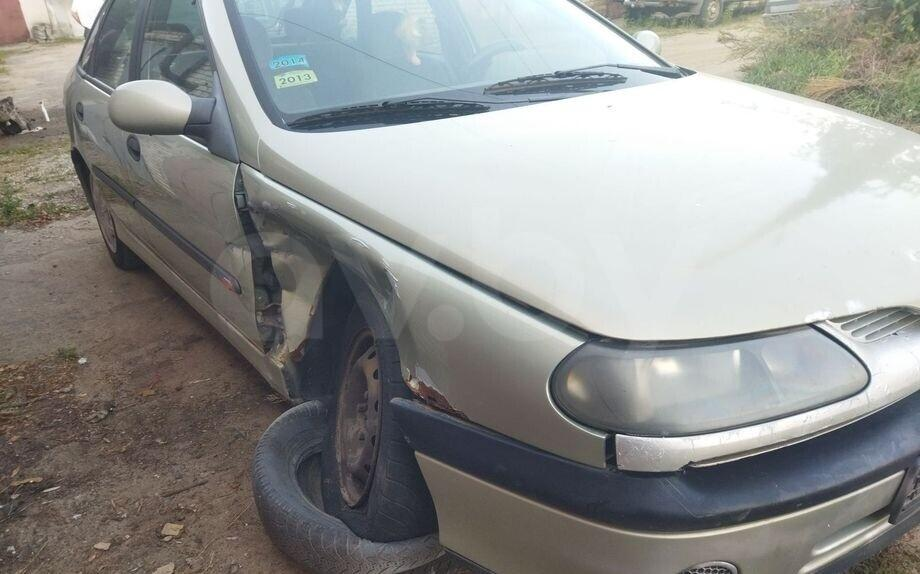Laguna_1998-2001: (55, 0, 920, 574)
